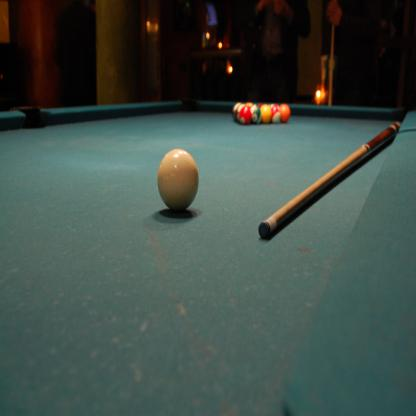Ball: (156, 146, 201, 216), (233, 102, 290, 124)
